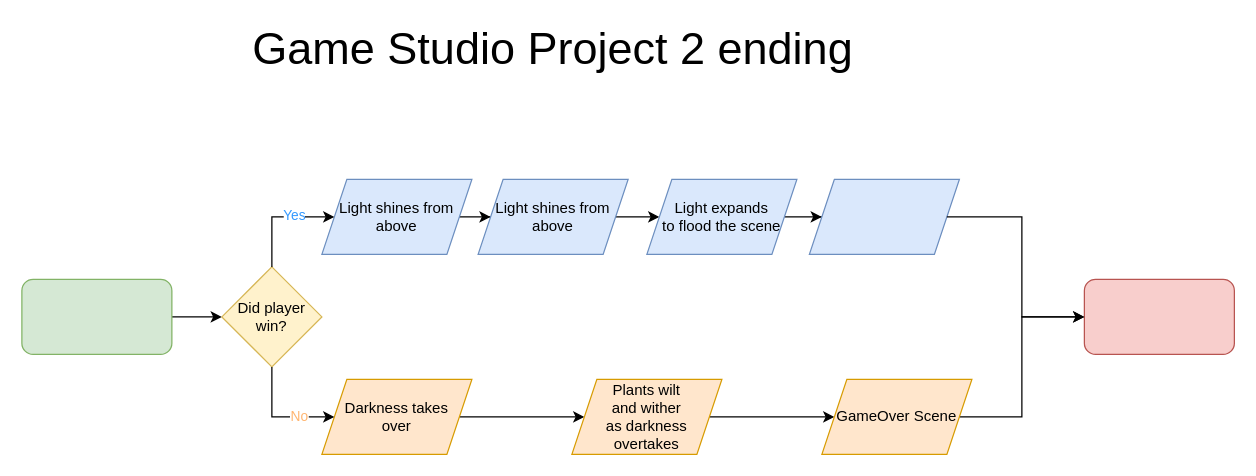
Image size: 1256x476. Some labels were removed from this diagram. The box of each missing label's shape, as (x1, y1, x2, y2) in pixels:
As the light pushes back darkness plants become healthy: (808, 178, 959, 254)
End Screen: (1083, 278, 1234, 354)
Start: (21, 278, 172, 354)
